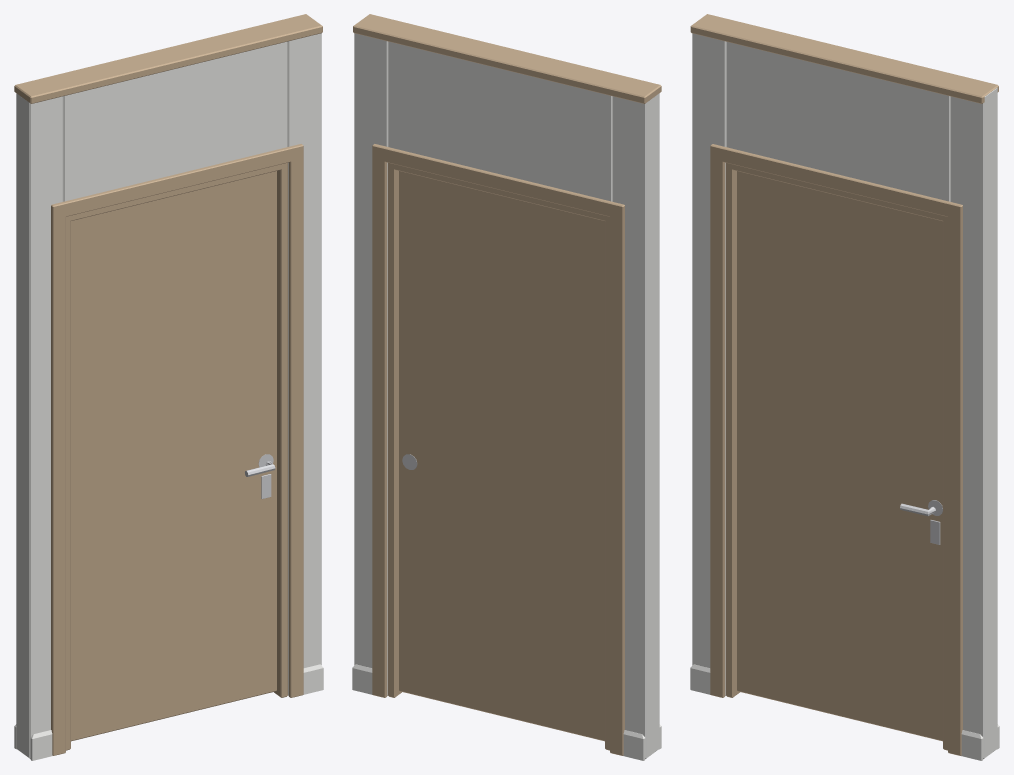
The model's file is office-lobby-and-facilities-corridor-door-module-8c6ef60d__26167.glb.
3 renders of one model, left to right at view 1: azimuth 30°, elevation 25°; view 2: azimuth 150°, elevation 25°; view 3: azimuth 330°, elevation 25°, orthographic.
Visible parts, largest first — view 1: corridor-door/surface, corridor-door-module, corridor-door/metal; view 2: corridor-door/surface, corridor-door-module; view 3: corridor-door/surface, corridor-door-module, corridor-door/metal.
Boxes of the visible parts, bbox=[...] form: corridor-door/surface: bbox=[71, 171, 276, 741]; corridor-door-module: bbox=[14, 14, 323, 760]; corridor-door/metal: bbox=[245, 454, 275, 498]; corridor-door/surface: bbox=[399, 171, 604, 741]; corridor-door-module: bbox=[352, 14, 661, 760]; corridor-door/surface: bbox=[737, 171, 942, 741]; corridor-door-module: bbox=[690, 14, 999, 760]; corridor-door/metal: bbox=[900, 500, 942, 544].
Size of the model in its own units: 1.2 by 2.6 by 0.1545.
